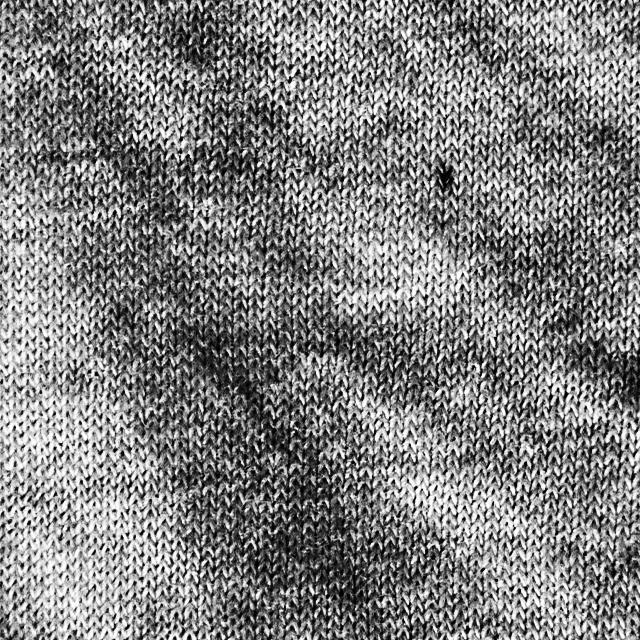Color_defect: (434, 150, 464, 202)
